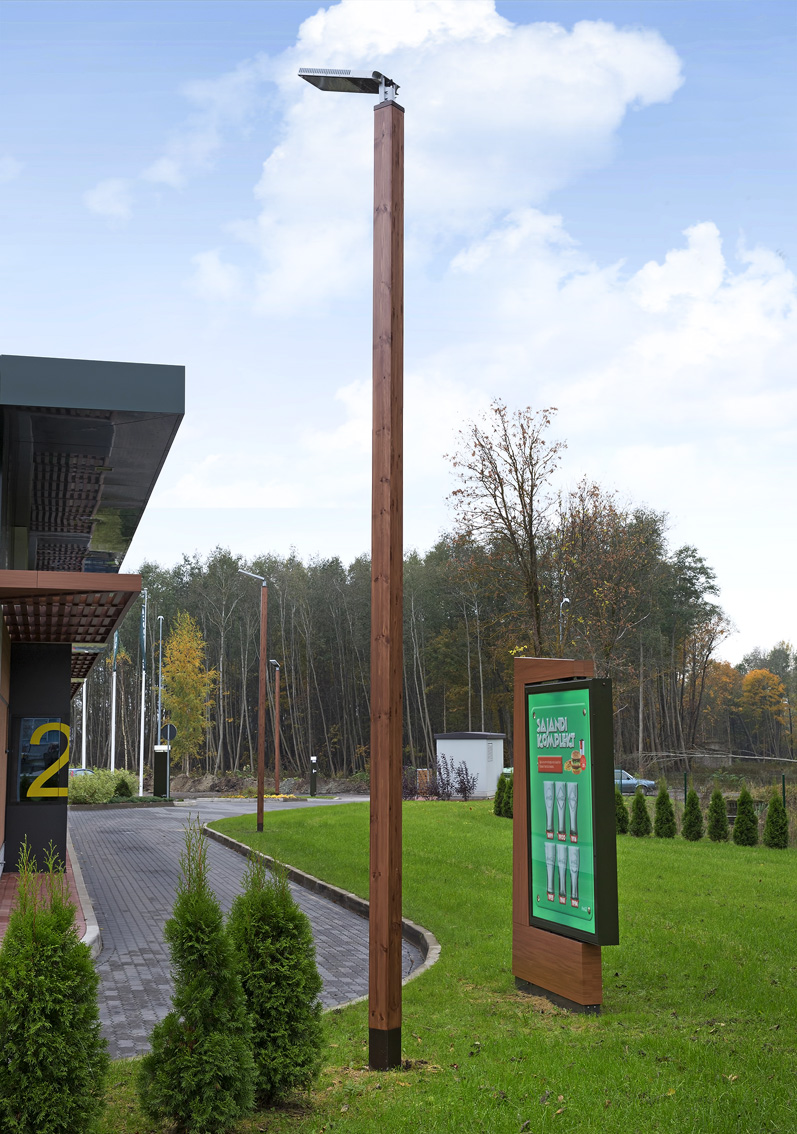pole: (259, 43, 468, 1083)
